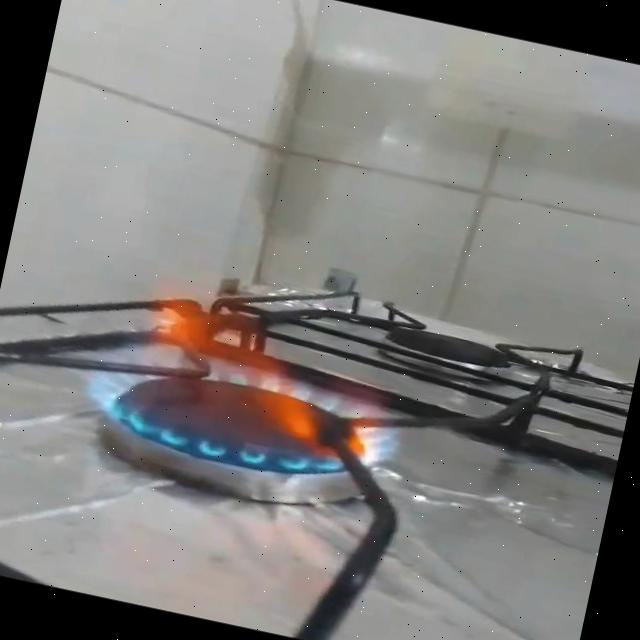fire: (56, 252, 431, 506)
